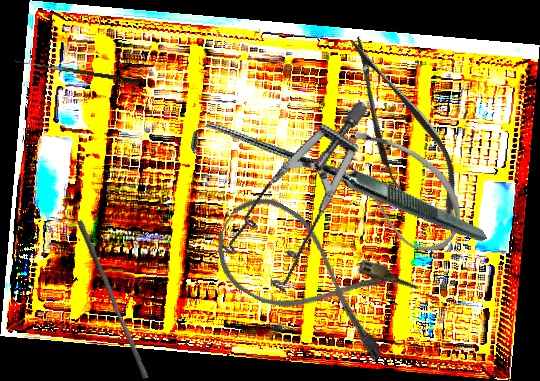Cannula: (200, 184, 421, 367), (318, 114, 481, 265)
Hook Surgical: (184, 33, 488, 342), (14, 60, 139, 85)
Micro Scissor: (325, 24, 476, 236)
Pusher: (70, 219, 155, 380)
Speculum: (190, 100, 421, 308)
